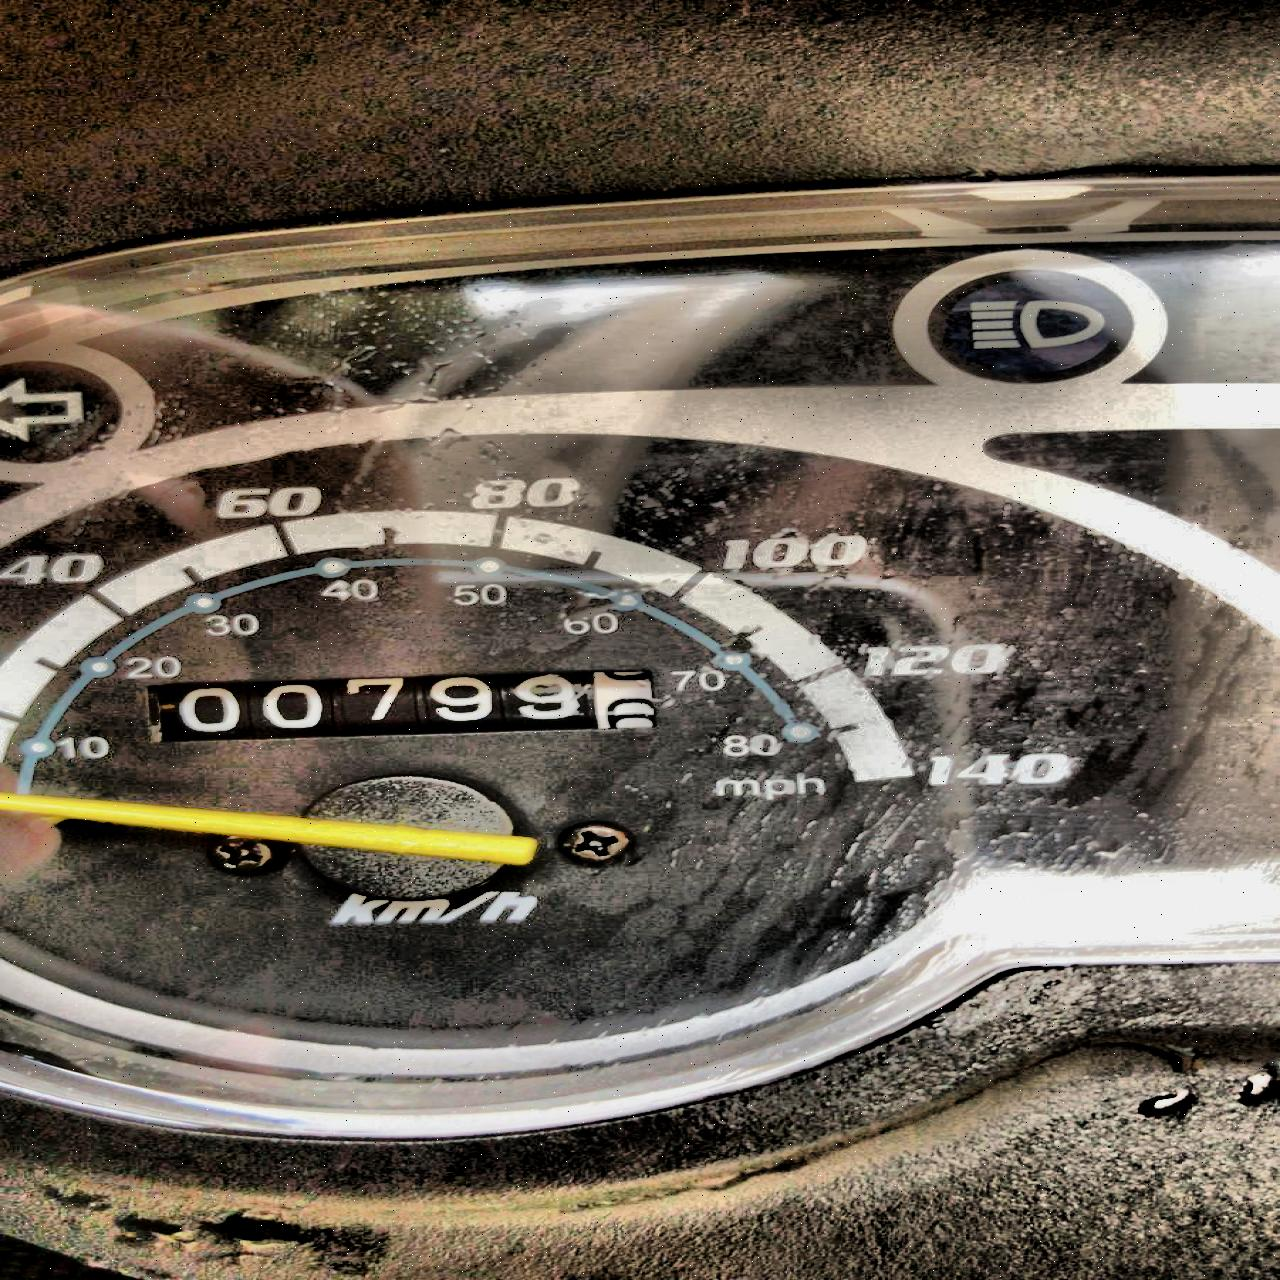0: (261, 683, 324, 729), (178, 687, 240, 731)
6: (604, 694, 660, 733)
7: (343, 678, 403, 721)
9: (427, 676, 495, 722), (513, 674, 577, 720)
odometer: (142, 667, 658, 742)
